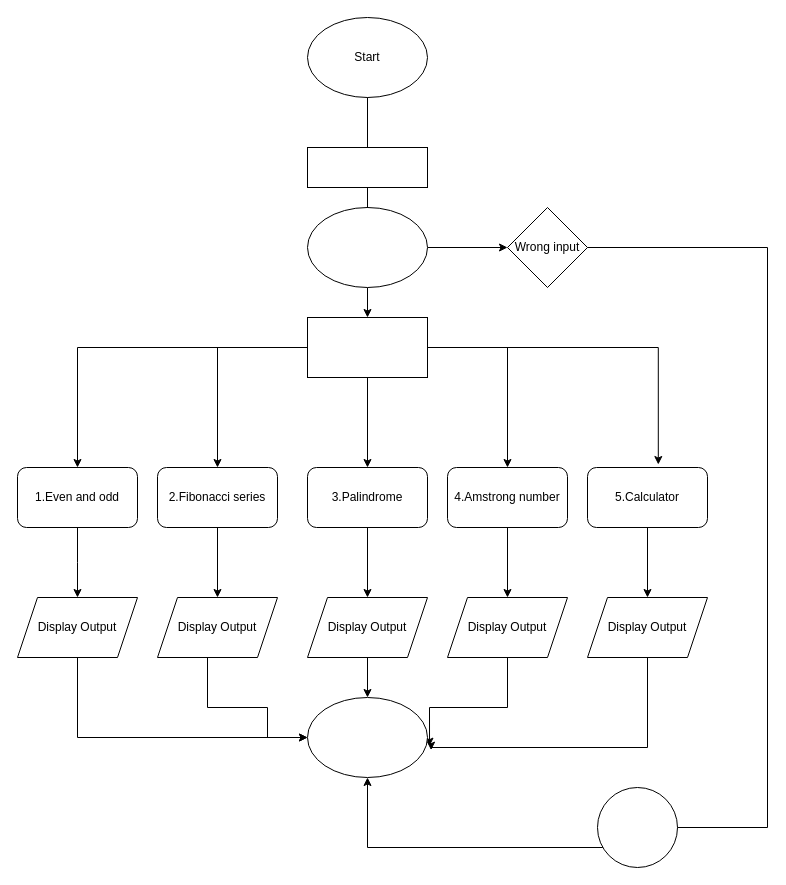
Image size: 786x885. Some labels were removed from this diagram. The shapes that lost their labels are listed below. From the top down, each one's centre as x and y in pixels, then its label:
point 367,167: Display Features
point 367,247: Inputs
point 367,347: Chose any one feature.(1,2,3,4&5)
point 367,737: Stop
point 637,827: Display Wrong Input
